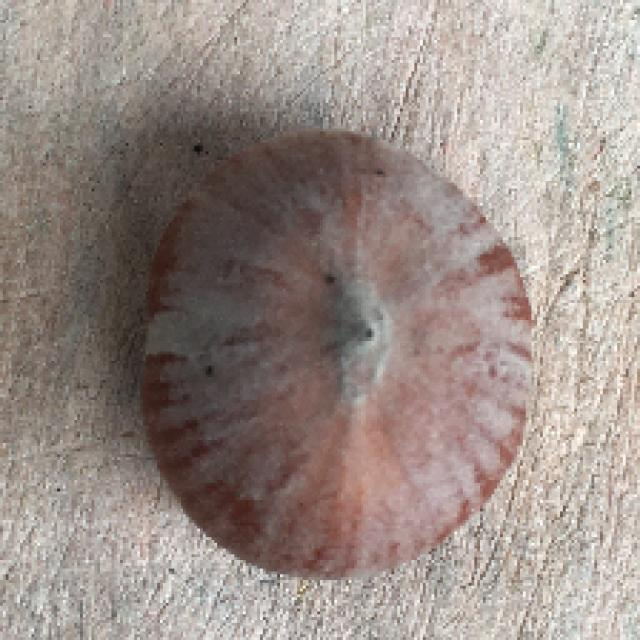qualityHazelnut: (134, 127, 537, 584)
